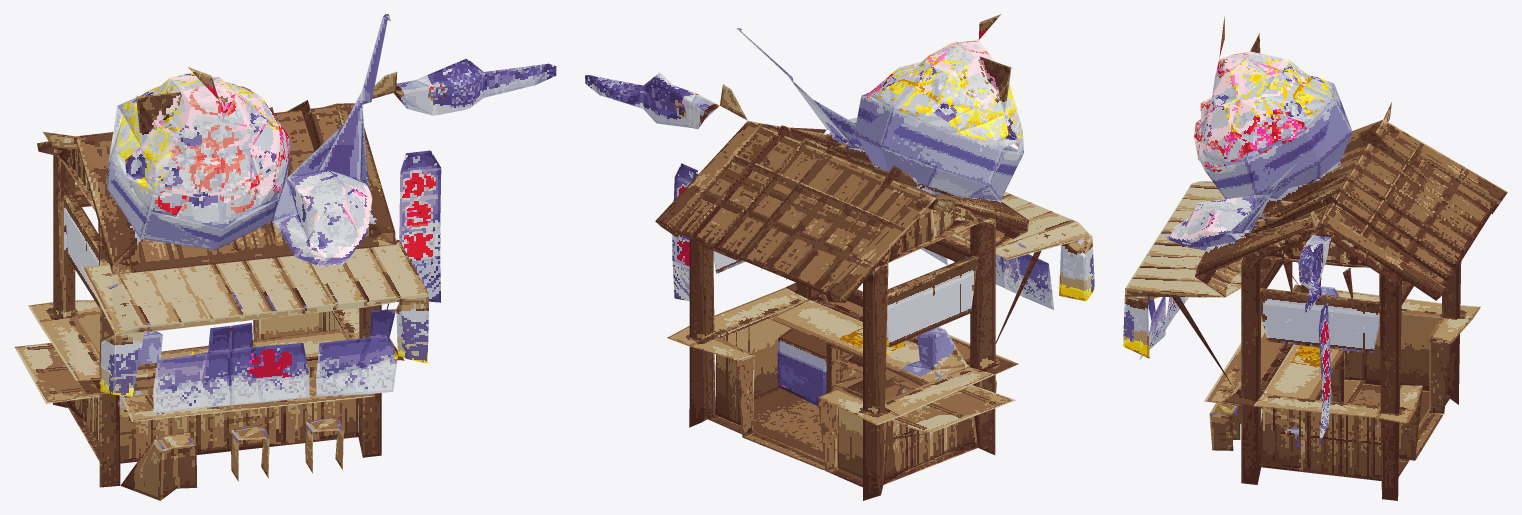
Rendered from stall.glb.
3 views of the same model, side by side, from view 1: azimuth 30°, elevation 25°; view 2: azimuth 150°, elevation 25°; view 3: azimuth 270°, elevation 25° (orthographic). The views are drawn at different scales.
Parts seen in each view (by area): view 1: model_stall; view 2: model_stall; view 3: model_stall.
Part boxes in pixels (x1,y1,x2,y2): model_stall: (14, 14, 556, 500); model_stall: (585, 14, 1094, 500); model_stall: (1123, 16, 1507, 500).
Size of the model in its own units: 39.71 by 33.4 by 30.36.
1 material, 1 textured.
